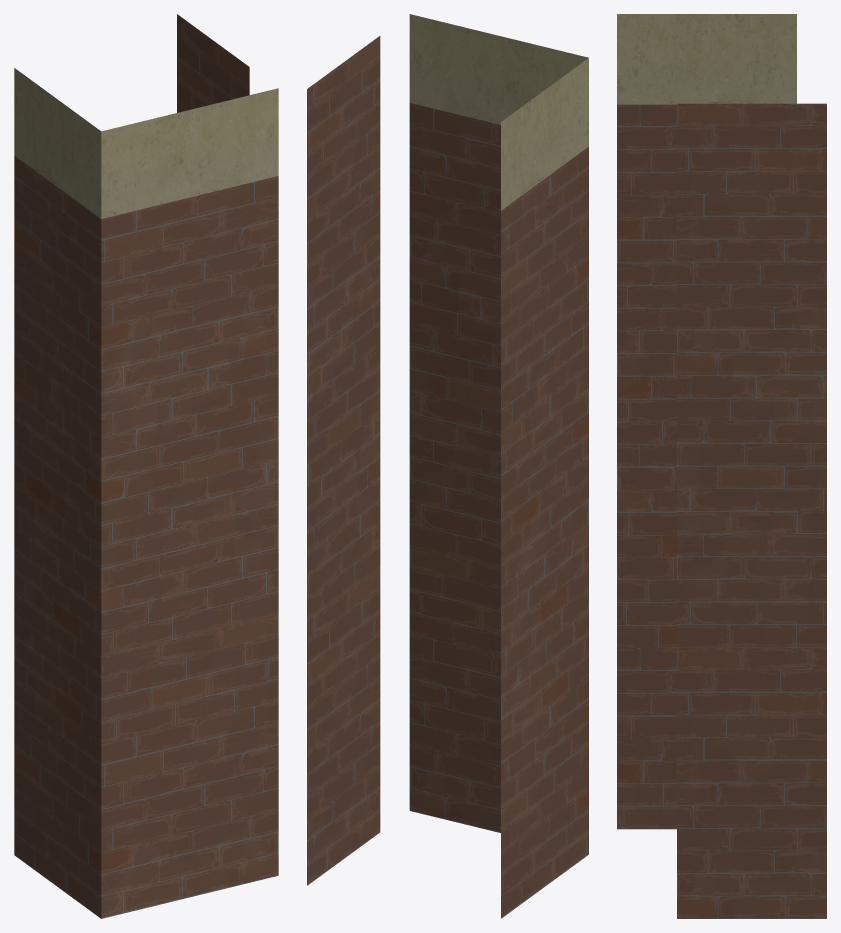
File: Brick_TopTrim_90Angle_R.gltf
3 renders of one model, left to right at view 1: azimuth 30°, elevation 25°; view 2: azimuth 150°, elevation 25°; view 3: azimuth 270°, elevation 25°, orthographic. The views are drawn at different scales.
Parts seen in each view (by area): view 1: Brick_TopTrim_90Angle_R; view 2: Brick_TopTrim_90Angle_R; view 3: Brick_TopTrim_90Angle_R.
Part boxes in pixels (x1,y1,x2,y2): Brick_TopTrim_90Angle_R: (14,14,278,918); Brick_TopTrim_90Angle_R: (307,14,588,918); Brick_TopTrim_90Angle_R: (617,14,826,918).
Bounding box in the file's own units: 0.7062 × 3 × 0.7.
3 materials, 3 textured.
